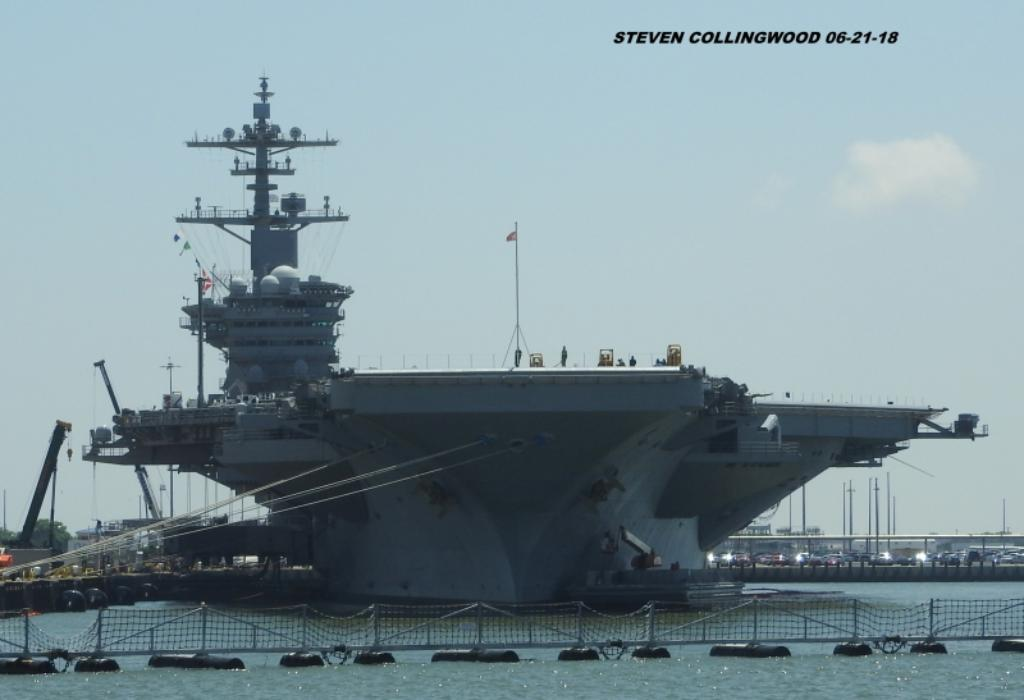Warship: (80, 35, 992, 623)
